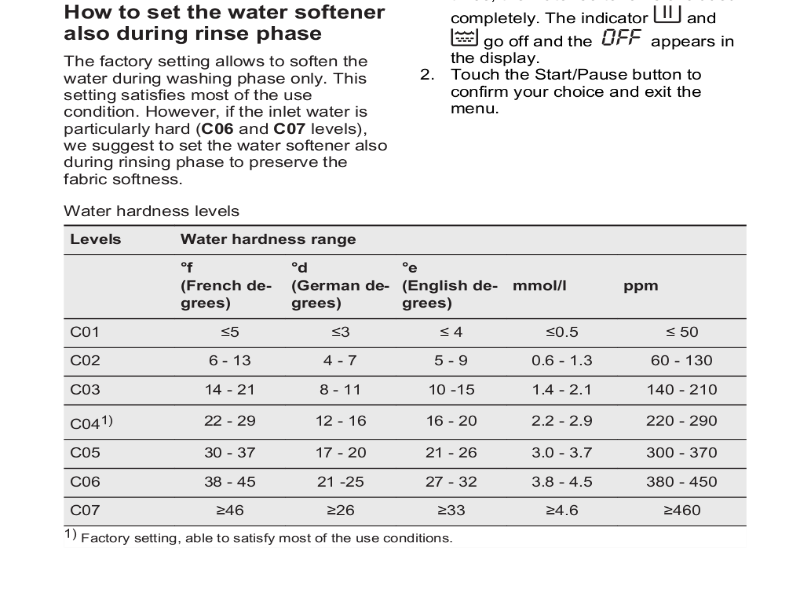borderless: (44, 218, 766, 528)
cell: (596, 259, 710, 315), (282, 259, 393, 315), (399, 259, 505, 315), (175, 259, 274, 314), (177, 228, 362, 250), (509, 259, 573, 315), (643, 471, 720, 491), (643, 442, 720, 462), (643, 409, 720, 429), (642, 379, 719, 399), (642, 349, 719, 369), (526, 351, 597, 371), (526, 379, 597, 399), (526, 409, 597, 429), (525, 442, 596, 462), (524, 471, 595, 491), (525, 499, 596, 519), (647, 500, 718, 520), (426, 408, 480, 431), (424, 440, 478, 463), (424, 470, 478, 493), (425, 498, 479, 521), (316, 409, 369, 432), (315, 441, 368, 464), (314, 470, 367, 493), (314, 499, 367, 522), (204, 378, 257, 399), (203, 409, 256, 430), (203, 442, 256, 463), (203, 471, 256, 492), (203, 500, 256, 521), (66, 410, 114, 432), (659, 323, 710, 343), (65, 231, 124, 248), (205, 351, 254, 371), (428, 378, 477, 398), (540, 323, 585, 343), (66, 322, 108, 343), (65, 348, 107, 369), (65, 379, 107, 400), (66, 442, 108, 463), (65, 472, 107, 493), (65, 499, 107, 520), (320, 351, 364, 371), (319, 379, 363, 399), (428, 349, 472, 369), (322, 323, 363, 343), (431, 323, 470, 344), (211, 322, 252, 341)
